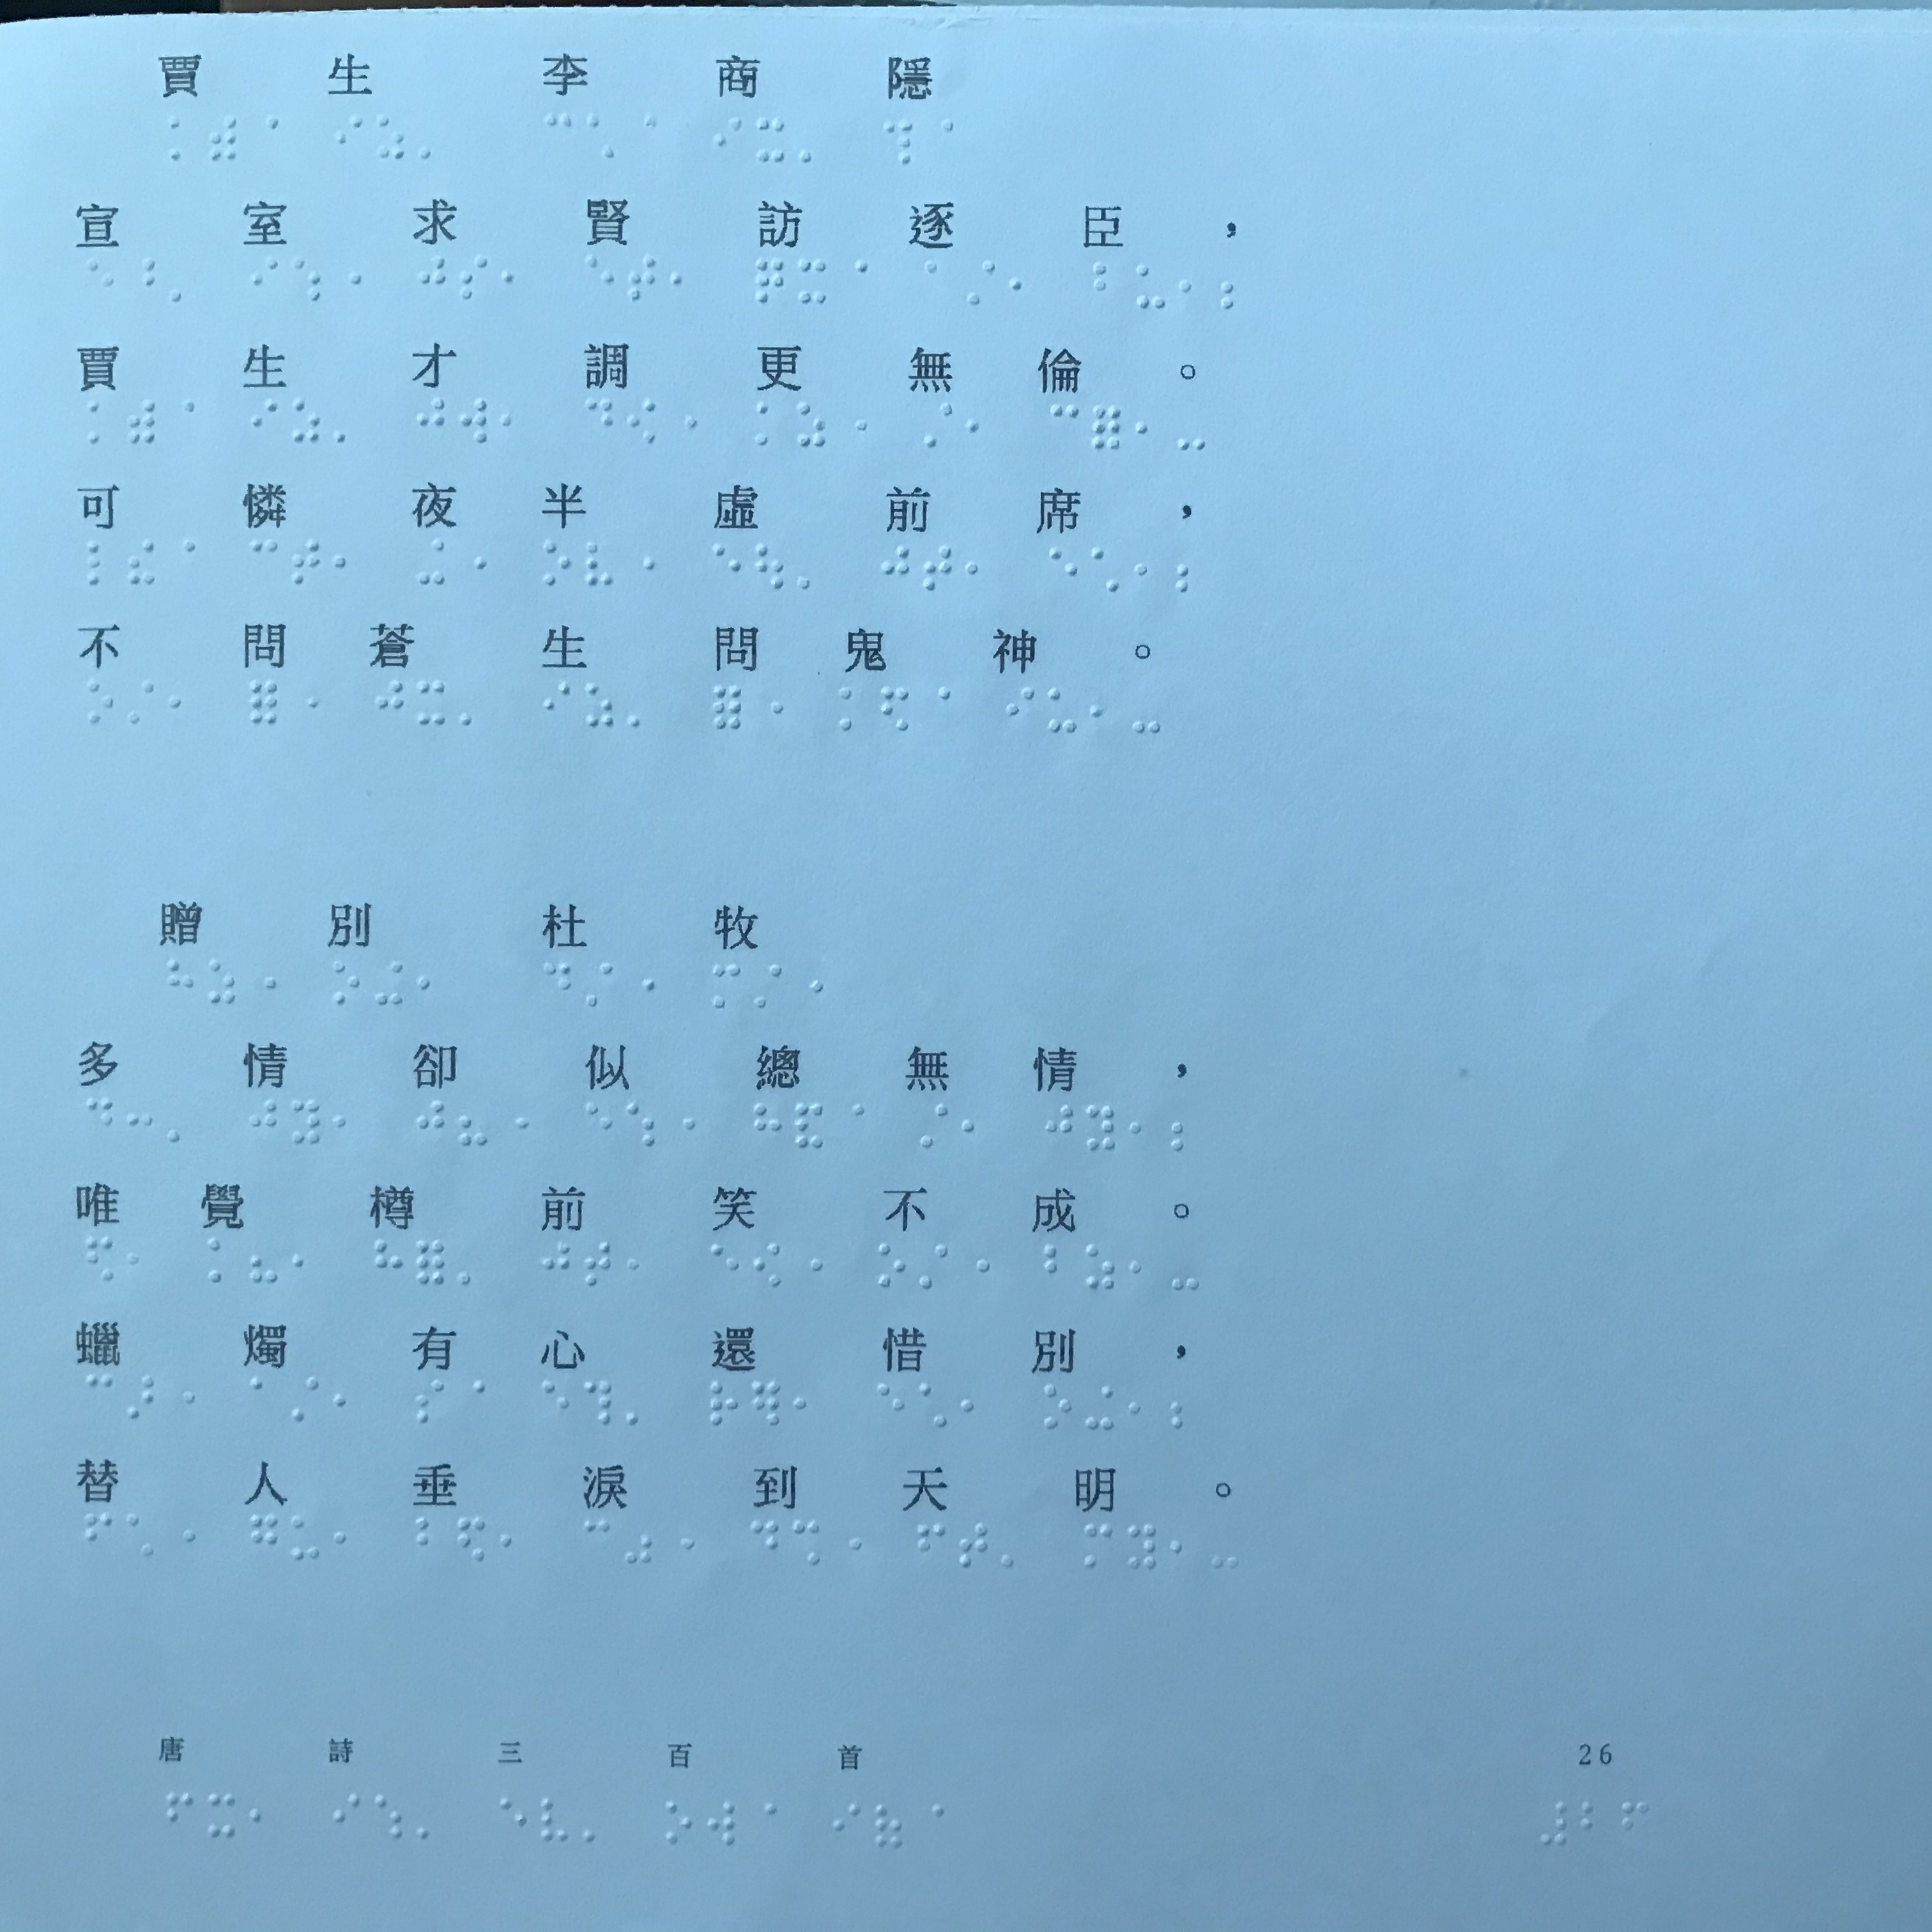Braille: (1083, 1104, 1120, 1154), (124, 538, 159, 587), (626, 251, 660, 303), (1537, 1799, 1571, 1851), (1049, 545, 1081, 598), (288, 538, 322, 587), (1127, 1522, 1161, 1571), (798, 255, 828, 310), (416, 676, 446, 731), (755, 115, 787, 166), (879, 545, 911, 596), (458, 1097, 490, 1148), (582, 1237, 614, 1288), (959, 1242, 991, 1293), (1085, 1244, 1120, 1290), (708, 1380, 741, 1428), (881, 681, 911, 734), (752, 1102, 782, 1155), (755, 258, 787, 308), (85, 678, 117, 727), (205, 955, 237, 1005), (709, 1240, 741, 1290), (1042, 1382, 1074, 1431), (1210, 1525, 1242, 1575), (885, 117, 915, 168), (1138, 262, 1168, 313), (460, 396, 490, 448), (85, 1233, 115, 1284), (920, 1242, 950, 1293), (207, 113, 239, 161), (1049, 400, 1081, 448), (1005, 688, 1037, 736), (288, 1097, 320, 1145), (1042, 1242, 1074, 1290), (750, 1380, 782, 1428), (1081, 1522, 1113, 1569), (625, 1100, 653, 1154), (968, 257, 998, 306), (584, 540, 614, 589), (755, 543, 786, 593), (924, 543, 954, 593), (1046, 1100, 1076, 1150), (375, 1235, 405, 1284), (541, 1240, 571, 1290), (1086, 1384, 1116, 1433), (1171, 1382, 1201, 1431), (207, 1790, 237, 1840), (662, 1798, 692, 1847), (249, 538, 281, 584), (416, 1099, 448, 1145), (623, 1520, 655, 1566), (750, 1520, 782, 1566), (538, 1798, 570, 1844), (1095, 257, 1122, 311), (377, 113, 405, 165), (460, 253, 488, 304), (127, 398, 156, 449), (333, 536, 361, 587), (1178, 547, 1207, 598), (715, 683, 743, 734), (837, 403, 867, 451), (582, 681, 612, 729), (711, 962, 741, 1010), (331, 1097, 361, 1145), (794, 1102, 824, 1150), (754, 1242, 784, 1290), (458, 1516, 488, 1564), (959, 1522, 989, 1569), (708, 1799, 738, 1847), (874, 1801, 904, 1849), (85, 1373, 117, 1417), (88, 257, 117, 306), (419, 395, 448, 444), (796, 400, 824, 449), (924, 400, 952, 449), (1093, 403, 1122, 453), (419, 538, 448, 587), (1093, 547, 1122, 596), (249, 678, 278, 727), (1049, 686, 1077, 736), (878, 1382, 906, 1431), (1219, 265, 1249, 311), (541, 1380, 571, 1426), (1132, 547, 1159, 598), (796, 964, 823, 1016), (794, 1518, 821, 1569), (587, 113, 616, 161), (630, 111, 658, 159), (294, 257, 322, 304), (292, 396, 320, 444), (628, 398, 656, 446), (924, 686, 952, 734), (377, 959, 405, 1007), (545, 959, 573, 1007), (754, 962, 782, 1010), (837, 1100, 865, 1148), (920, 1102, 948, 1150), (249, 1240, 278, 1288), (416, 1238, 444, 1286), (878, 1242, 906, 1290), (249, 1373, 278, 1421), (292, 1373, 320, 1421), (127, 1511, 156, 1559), (916, 1522, 945, 1569), (499, 1794, 527, 1842), (290, 681, 320, 725), (1171, 1249, 1201, 1293), (414, 1378, 444, 1422), (456, 1375, 487, 1419), (832, 1522, 862, 1566), (669, 255, 695, 304), (1010, 258, 1037, 308), (501, 400, 527, 449), (671, 400, 697, 449), (545, 538, 571, 587), (127, 678, 154, 727), (249, 957, 276, 1007), (334, 957, 361, 1007), (545, 113, 573, 159), (419, 255, 448, 301), (586, 396, 614, 442), (458, 540, 487, 586), (713, 545, 741, 591), (798, 545, 826, 591), (166, 955, 195, 1001), (587, 961, 616, 1007), (501, 1100, 529, 1146), (667, 1104, 695, 1150), (209, 1237, 237, 1283), (127, 1373, 156, 1419), (586, 1380, 614, 1426), (292, 1514, 320, 1560), (499, 1518, 527, 1564), (1582, 1798, 1610, 1844), (541, 683, 571, 725), (1132, 692, 1162, 734), (333, 1794, 363, 1836), (334, 111, 361, 159), (927, 117, 954, 165), (587, 255, 614, 303), (87, 400, 113, 448), (1134, 403, 1161, 451), (377, 678, 403, 725), (458, 679, 485, 727), (251, 1095, 278, 1143), (586, 1102, 612, 1150), (1169, 1106, 1196, 1154), (626, 1240, 653, 1288), (922, 1384, 948, 1431), (1129, 1385, 1155, 1433), (925, 260, 954, 304), (87, 541, 115, 586), (85, 1095, 113, 1139), (333, 1378, 361, 1422), (835, 1801, 863, 1845), (1622, 1799, 1651, 1844), (502, 255, 527, 304), (1129, 1244, 1154, 1293), (168, 115, 195, 161), (419, 115, 446, 161), (715, 115, 741, 161), (251, 257, 278, 303), (755, 400, 782, 446), (628, 961, 655, 1007), (959, 1106, 985, 1152), (796, 1242, 823, 1288), (170, 1375, 196, 1421), (961, 1385, 987, 1431), (251, 1513, 278, 1559), (166, 400, 195, 442), (249, 400, 278, 442), (1178, 409, 1207, 451), (166, 1789, 195, 1831), (1088, 688, 1113, 736), (416, 959, 441, 1007), (127, 1092, 152, 1139), (968, 400, 991, 451), (840, 260, 867, 304), (333, 400, 359, 444), (628, 543, 655, 587), (840, 686, 867, 731), (166, 1097, 193, 1141), (625, 1384, 651, 1428), (416, 1516, 442, 1560), (750, 1801, 777, 1845), (918, 1803, 945, 1847), (336, 258, 361, 304), (1178, 265, 1203, 311), (172, 538, 195, 587), (966, 547, 991, 593), (168, 681, 193, 727), (628, 685, 653, 731), (757, 685, 782, 731), (292, 1242, 317, 1288), (1169, 1523, 1194, 1569), (85, 1511, 111, 1553), (667, 1523, 694, 1566), (580, 1801, 607, 1844), (798, 119, 821, 166), (133, 257, 156, 304), (127, 1235, 150, 1283), (253, 115, 278, 159), (791, 1380, 816, 1424), (794, 1382, 819, 1426), (170, 1514, 196, 1555), (586, 1518, 612, 1559), (251, 1792, 274, 1838), (377, 1794, 400, 1840), (170, 262, 195, 304), (1001, 1527, 1026, 1569), (414, 1801, 441, 1840), (1127, 1106, 1150, 1150), (458, 1244, 483, 1284), (336, 1518, 361, 1559)
